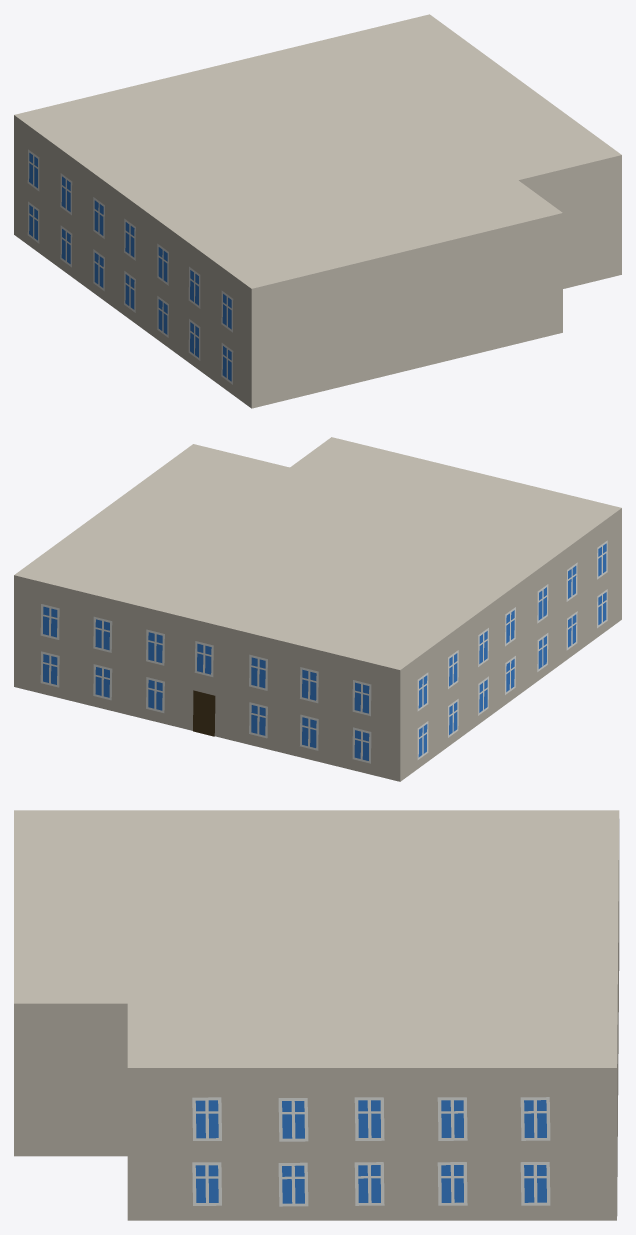
The picture shows the model from 3 angles, top to bottom: view 1: azimuth 30°, elevation 25°; view 2: azimuth 150°, elevation 25°; view 3: azimuth 270°, elevation 25°; orthographic projection. The views are drawn at different scales.
Parts seen in each view (by area): view 1: Плоскость.654, Плоскость.001, Плоскость.002; view 2: Плоскость.654, Плоскость.001, Плоскость.002; view 3: Плоскость.654, Плоскость.004, Плоскость.003.
Boxes of the visible parts, x1,y1,x2,y2 form: Плоскость.654: (14, 14, 621, 408); Плоскость.001: (27, 149, 233, 332); Плоскость.002: (27, 201, 233, 384); Плоскость.654: (14, 437, 621, 781); Плоскость.001: (417, 540, 607, 711); Плоскость.002: (417, 589, 607, 759); Плоскость.654: (14, 810, 619, 1220); Плоскость.004: (192, 1162, 550, 1206); Плоскость.003: (192, 1097, 550, 1141).
Size of the model in its own units: 212 by 57.52 by 208.
